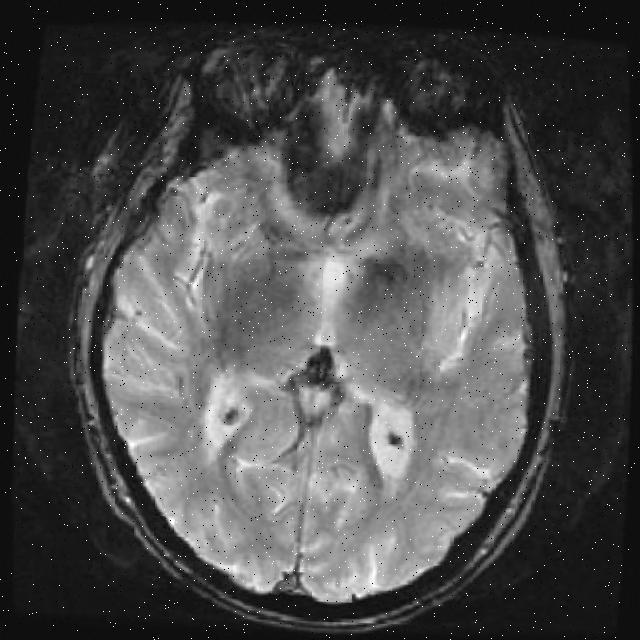EMCI: (180, 208, 328, 340), (368, 259, 418, 321), (201, 386, 255, 443), (370, 426, 430, 459)
